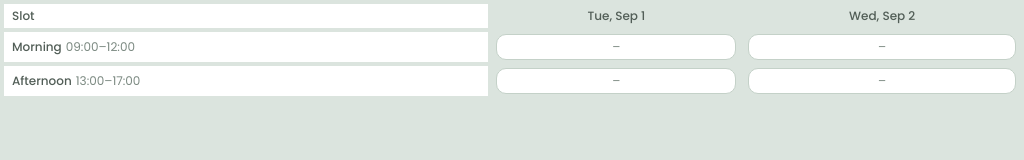
Scenario: AvailabilityGrid › cycles a cell through free, maybe and busy, then back to blank
Click the 1st button "–".
click(616, 47)  # box [496,34,736,60]
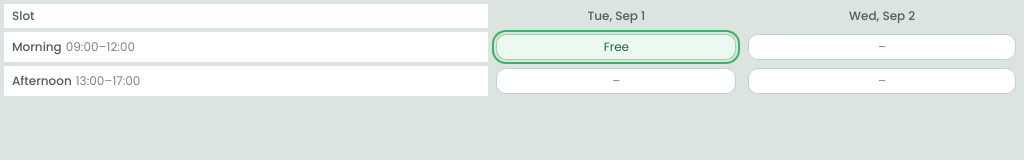
Result: the button "Free" is shown
Click the button "Free".
click(616, 47)  # box [496,34,736,60]
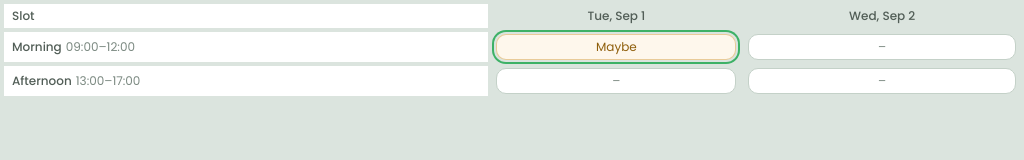
Result: the button "Maybe" is shown
Click the button "Maybe".
click(616, 47)  # box [496,34,736,60]
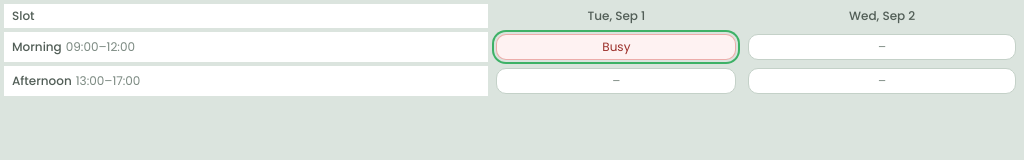
Result: the button "Busy" is shown
Back to blank, which is how a lecturer clears an answer.
Click the button "Busy".
click(616, 47)  # box [496,34,736,60]
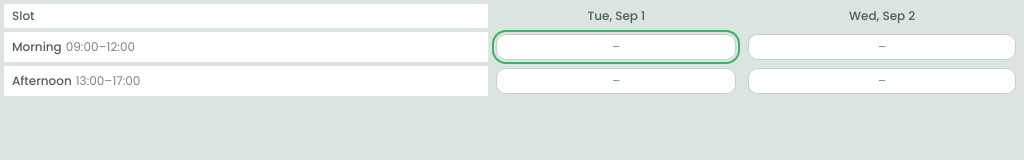
Result: the 1st button "–" is shown at [496,34,736,60]
